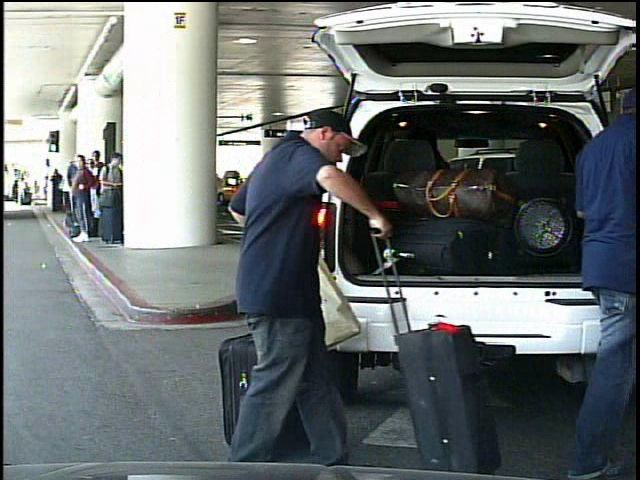person: (220, 98, 397, 474), (539, 78, 640, 480), (18, 177, 29, 207)
